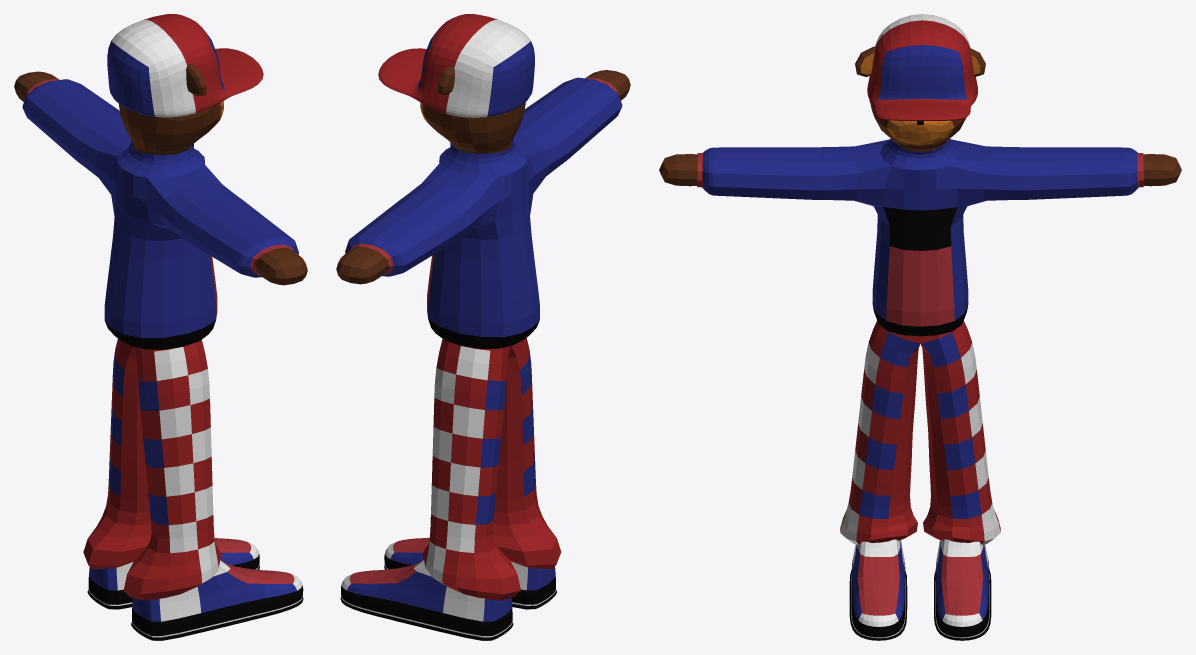
File: basic1.fbx
The picture shows the model from 3 angles, left to right: view 1: azimuth 30°, elevation 25°; view 2: azimuth 150°, elevation 25°; view 3: azimuth 270°, elevation 25°; orthographic projection. The views are drawn at different scales.
Parts seen in each view (by area): view 1: Hoodie, Pantelones, El sombrero, Shoe.R, Head, Hands, Shoe.L; view 2: Hoodie, Pantelones, El sombrero, Shoe.L, Head, Hands, Shoe.R; view 3: Hoodie, Pantelones, El sombrero, Shoe.R, Shoe.L, Head, Hands.
Part boxes in pixels (<box>): Hoodie: <box>22,79,298,349</box>; Pantelones: <box>83,339,221,600</box>; El sombrero: <box>107,14,263,117</box>; Shoe.R: <box>131,560,303,640</box>; Head, Hands: <box>14,64,307,285</box>; Shoe.L: <box>87,538,259,609</box>; Hoodie: <box>345,77,622,348</box>; Pantelones: <box>423,338,561,600</box>; El sombrero: <box>378,14,534,117</box>; Shoe.L: <box>340,560,513,640</box>; Head, Hands: <box>336,65,630,284</box>; Shoe.R: <box>384,537,556,609</box>; Hoodie: <box>697,138,1143,336</box>; Pantelones: <box>840,320,1000,544</box>; El sombrero: <box>867,14,977,120</box>; Shoe.R: <box>849,539,907,640</box>; Shoe.L: <box>934,539,991,640</box>; Head, Hands: <box>659,46,1181,186</box>.
Bounding box in the file's own units: 828 × 306 × 987.
